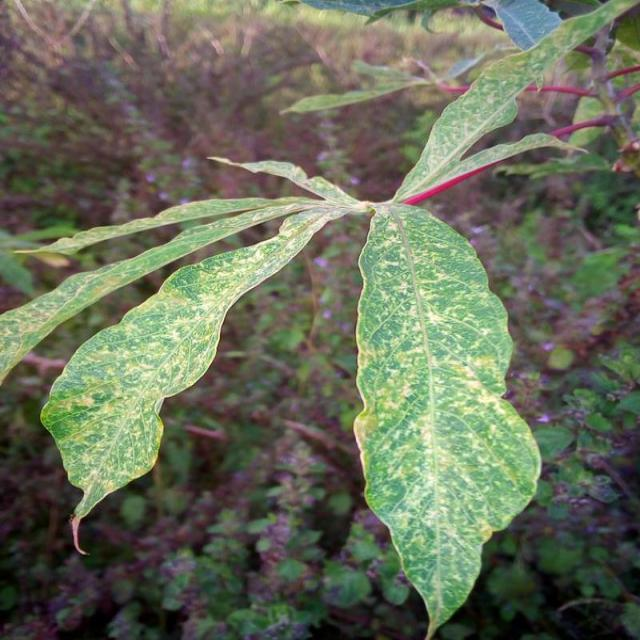cassava leaf: (38, 197, 357, 554), (352, 200, 542, 638)
